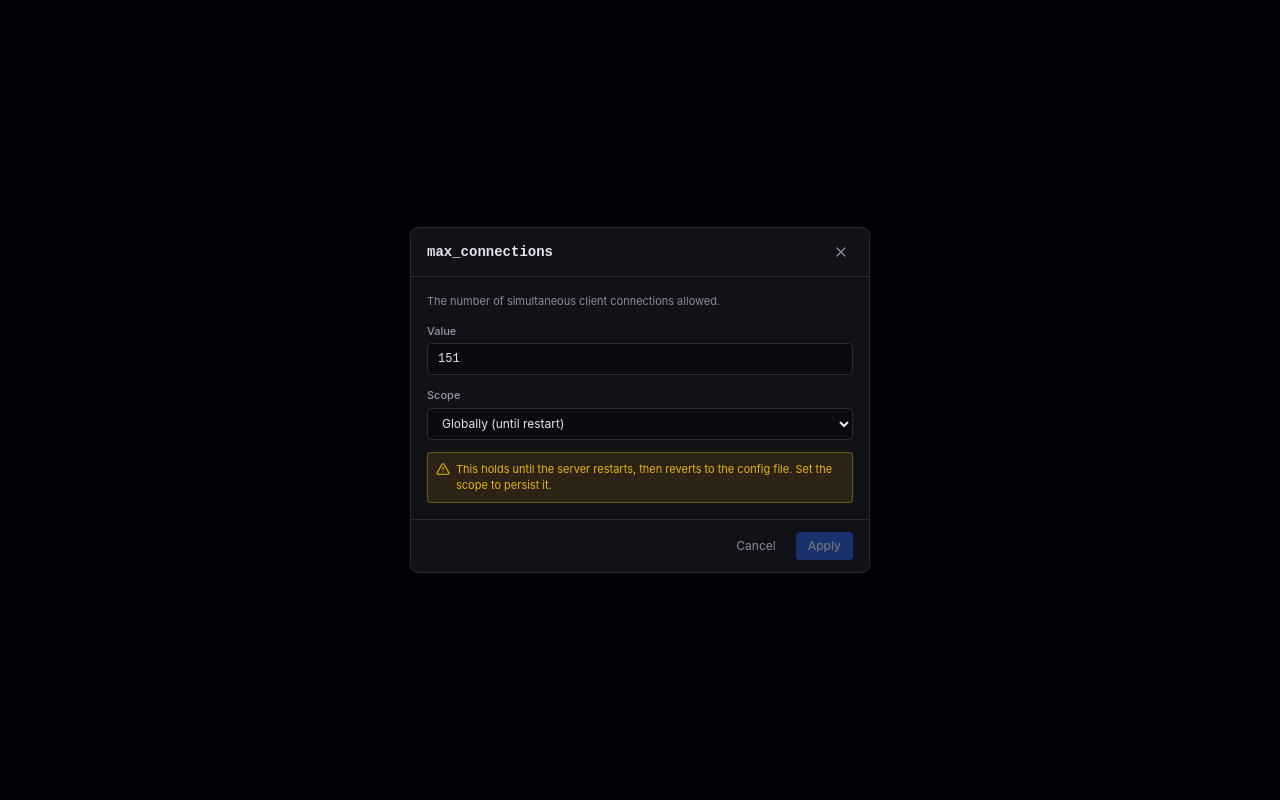
SetVariableDialog (#438) › surfaces the server's refusal for a read-only variable
This screenshot has width=1280, height=800.
Replace the text in the field labelled "Value" with "9": (640, 359) [427, 343, 853, 375]
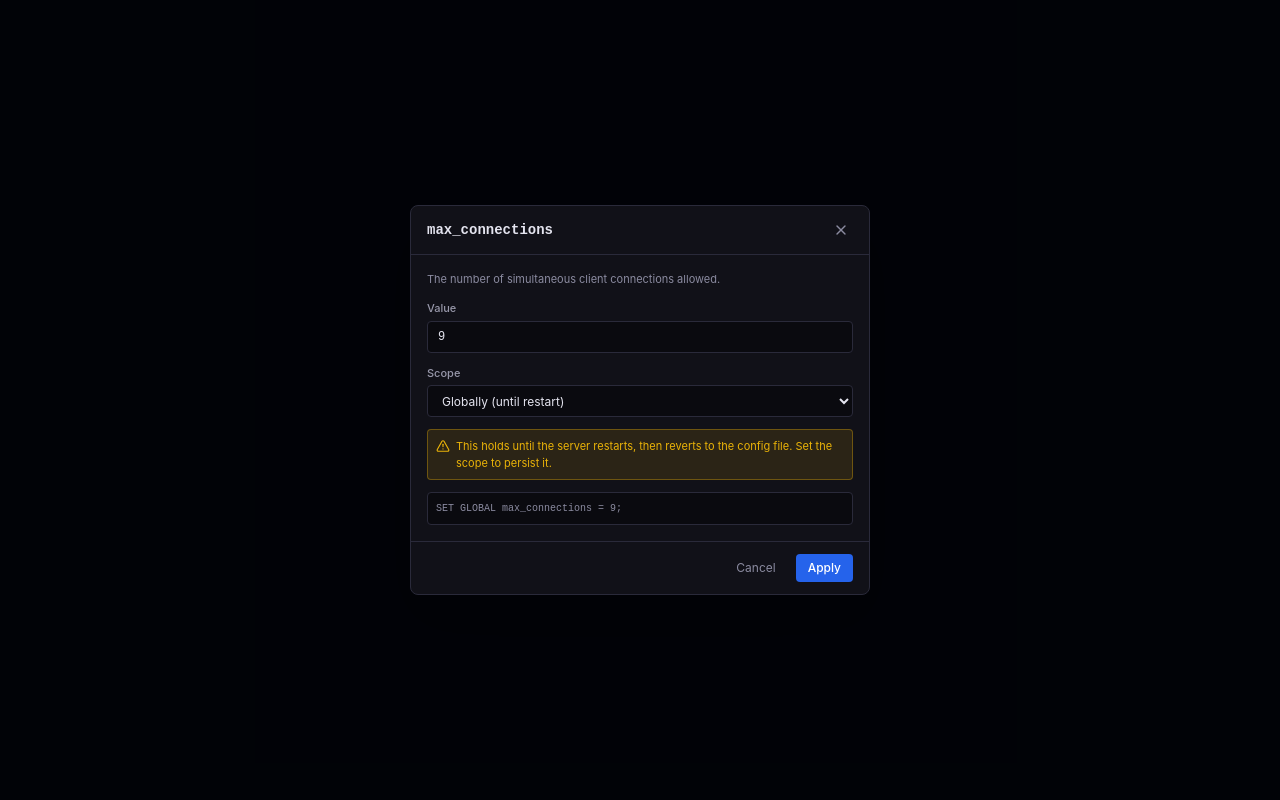
Click the button "Apply": (824, 568) [796, 554, 853, 582]
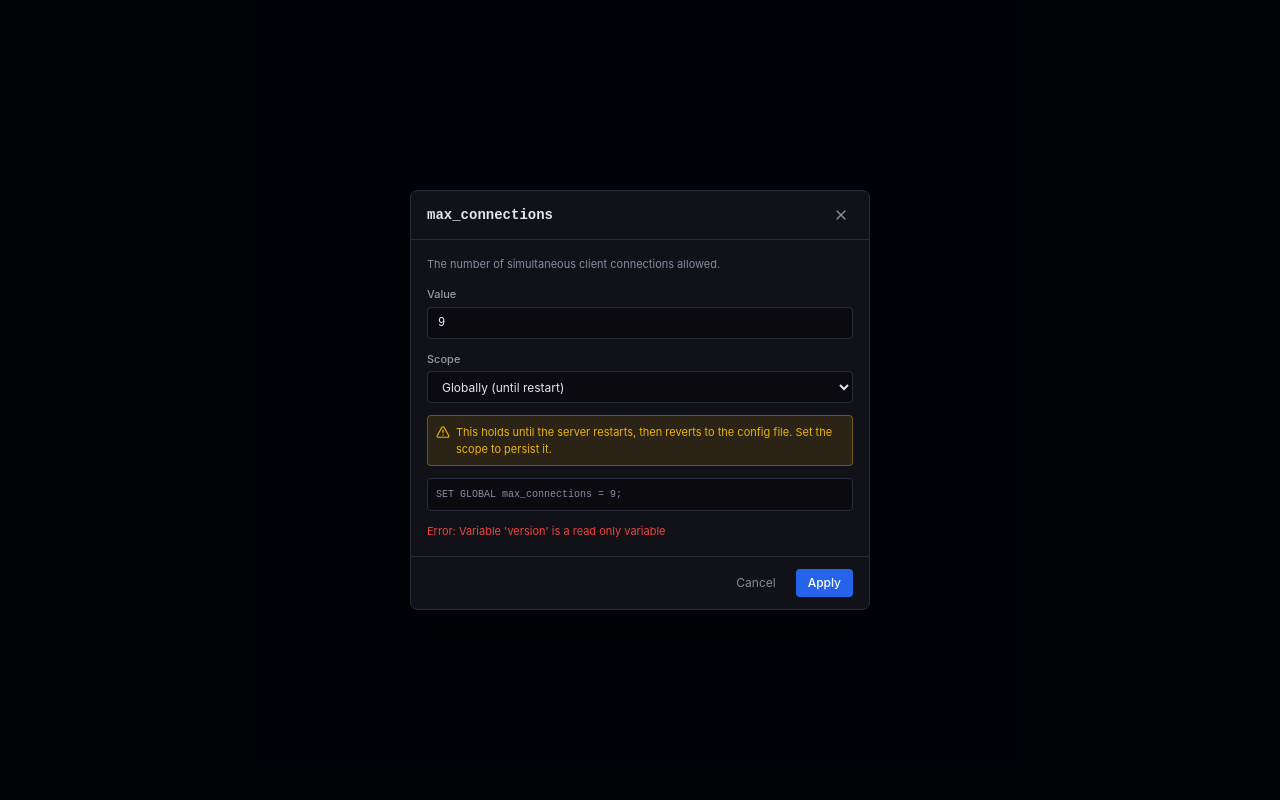
Check: the message shows "read only variable", box [427, 524, 666, 538]
